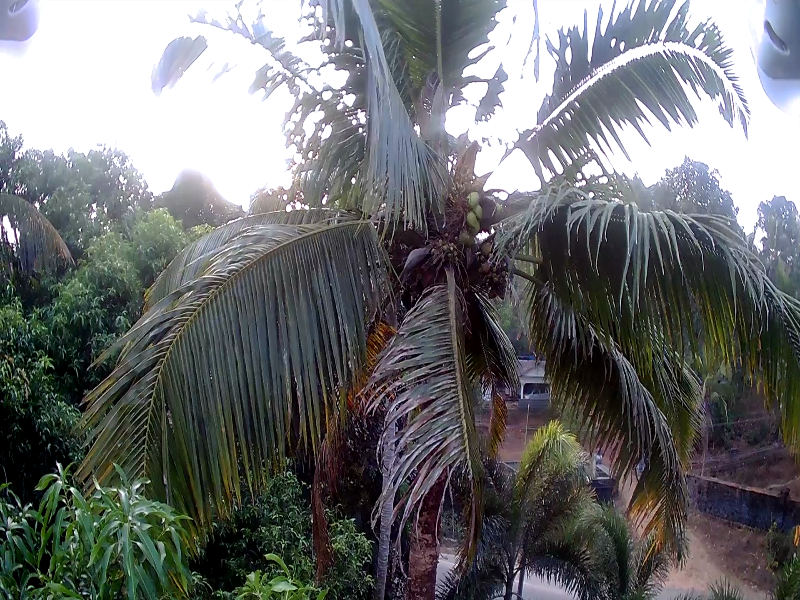coconut: (456, 227, 471, 244), (461, 213, 479, 227), (467, 201, 485, 215), (465, 191, 477, 205), (440, 244, 455, 255), (481, 243, 490, 253)
